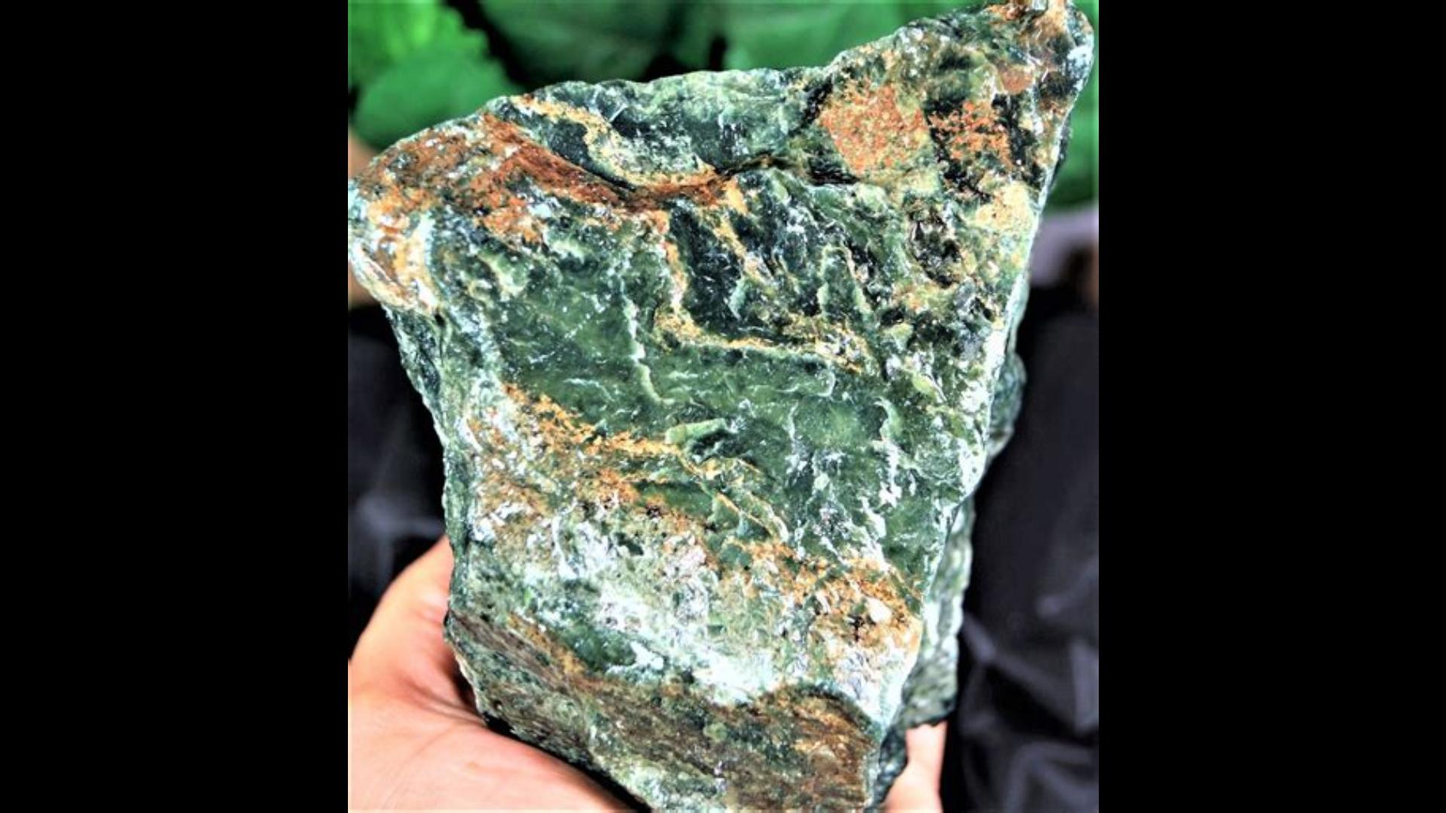rock: (352, 3, 1091, 811)
